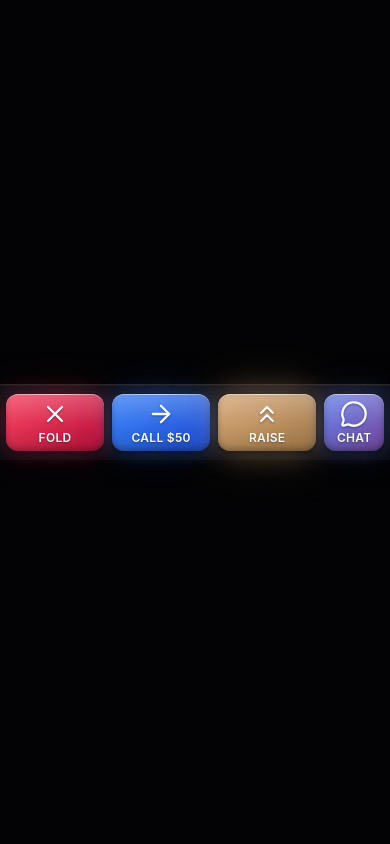
Scenario: VT-02: MobileActionButtons raise sheet — calculations and interactions › Cancel button closes the raise sheet
This screenshot has width=390, height=844.
Click the button "Raise" at (267, 422), box [218, 394, 316, 451]
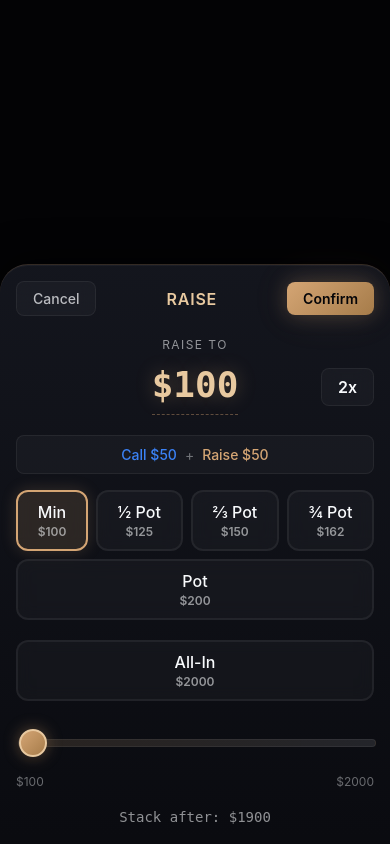
Check: the element with class "mobile-raise-sheet" is shown
// Click Cancel
Click the button "Cancel" at (56, 298), box [16, 281, 96, 316]
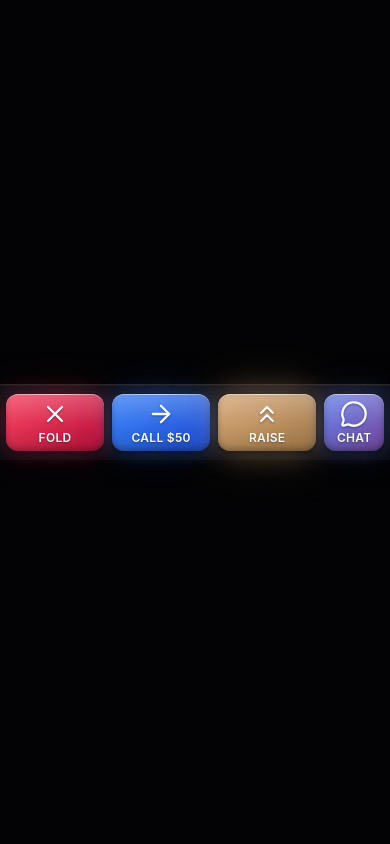
Check: the button "Raise" is shown, box [249, 430, 286, 445]
Check: the button "Fold" is shown, box [38, 430, 71, 445]
